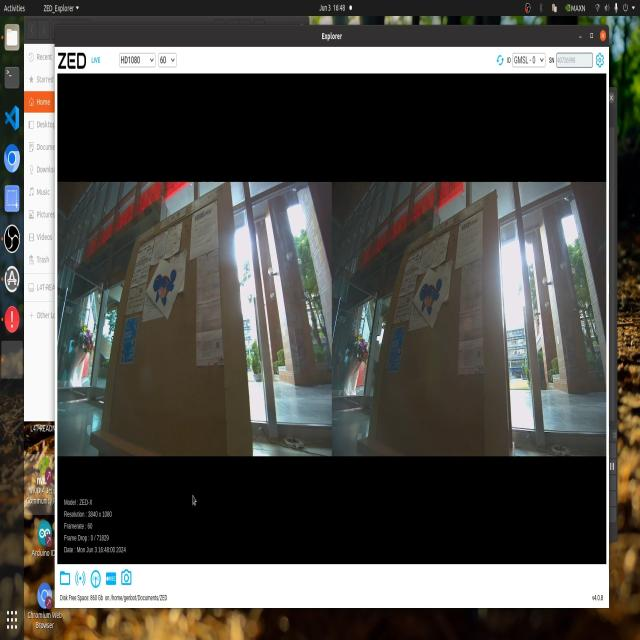blue: (147, 262, 184, 308), (419, 266, 449, 312)
